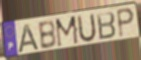A: (17, 23, 41, 54)
B: (36, 19, 57, 51), (96, 10, 117, 41)
M: (54, 15, 80, 49)
P: (115, 7, 136, 40)
U: (77, 12, 98, 45)
